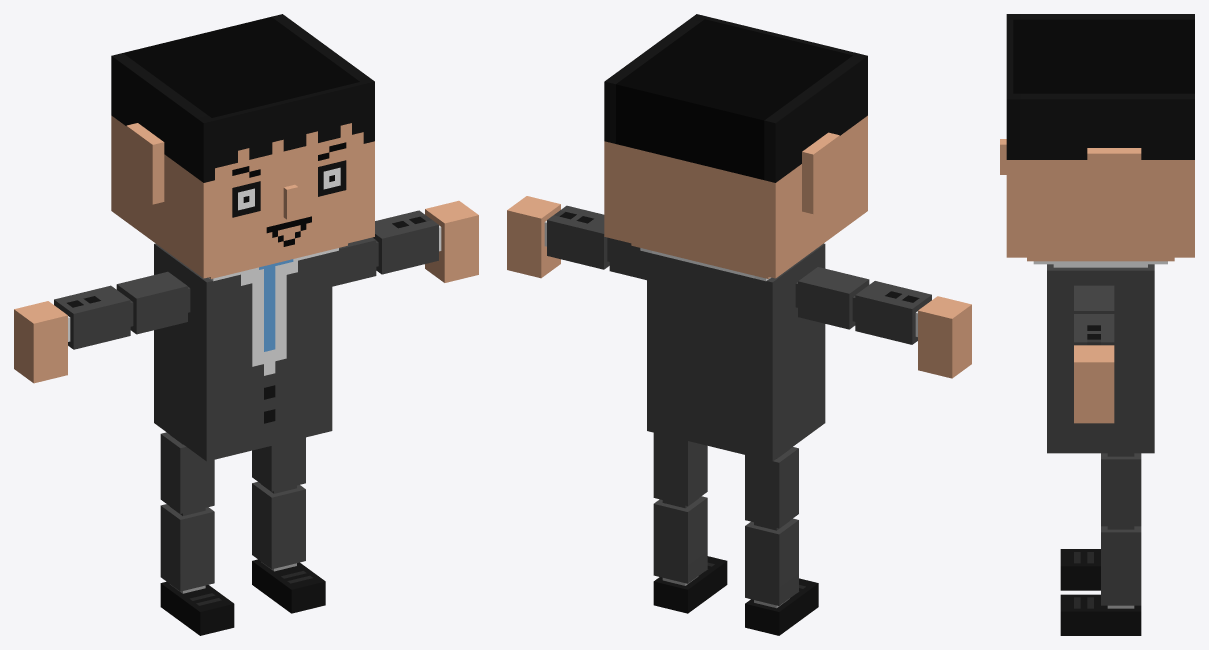
File: Human1.obj
3 renders of one model, left to right at view 1: azimuth 30°, elevation 25°; view 2: azimuth 150°, elevation 25°; view 3: azimuth 270°, elevation 25°, orthographic.
Visible parts, largest first — view 1: Human1; view 2: Human1; view 3: Human1.
Part boxes in pixels (box(x1,y1,x2,y2)): Human1: box(14, 14, 478, 635); Human1: box(507, 14, 971, 635); Human1: box(1000, 14, 1194, 635).
Bounding box in the file's own units: 78 × 90 × 29.
1 material, 1 textured.
